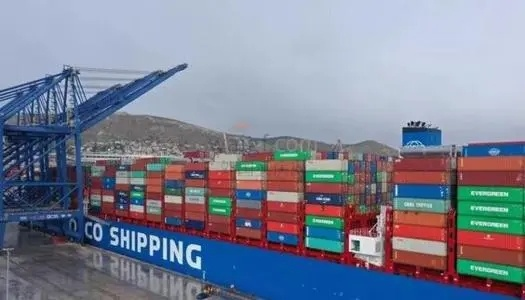Cargoship: (23, 117, 525, 300)
